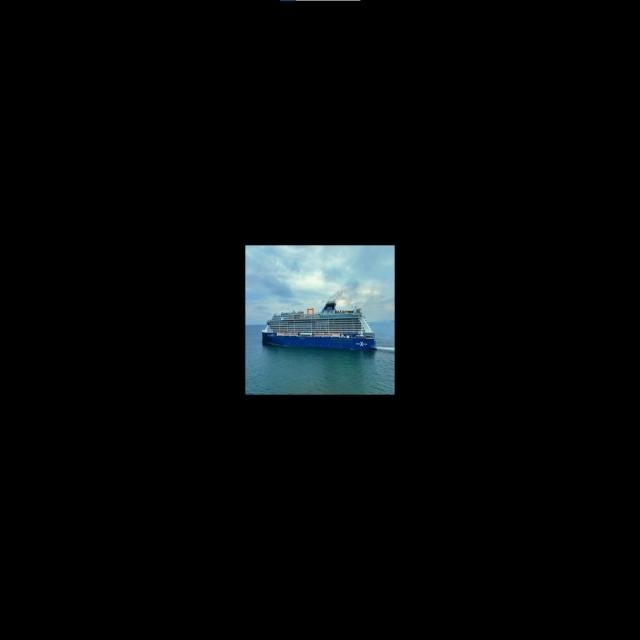ship: (262, 300, 376, 355)
